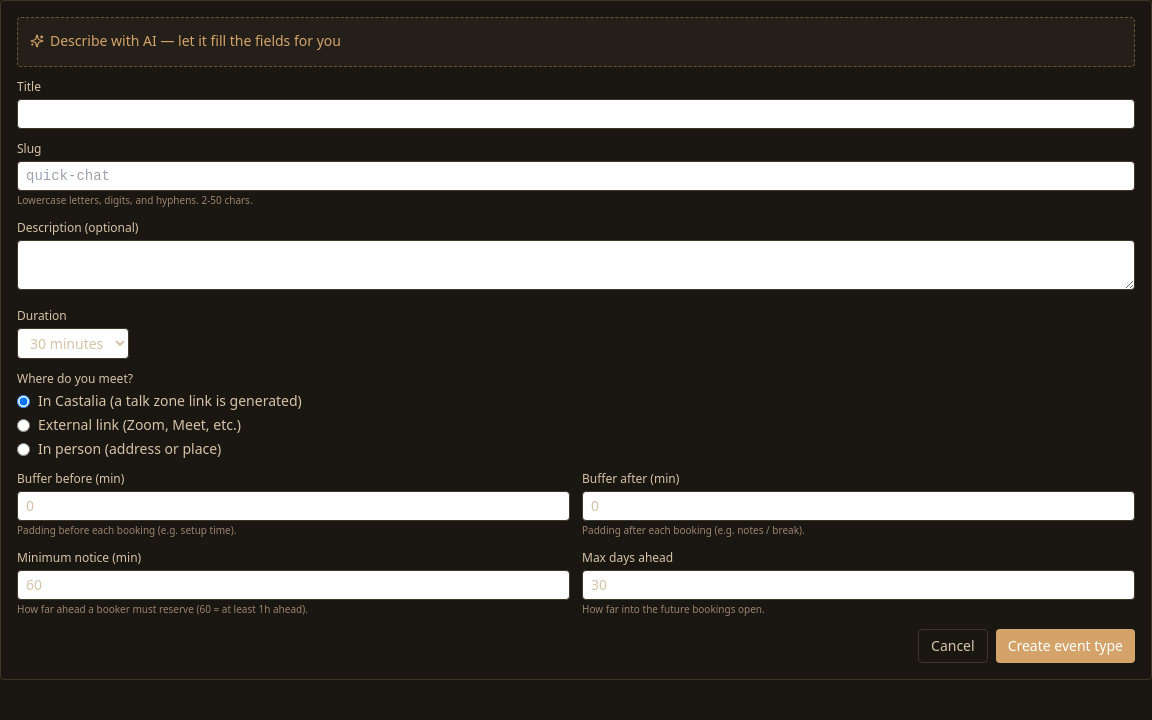
it: required-field validation: empty title and slug blocks submit
The width and height of the screenshot is (1152, 720).
Click the button "Create event type" at coordinates (1065, 646), box 996,629 -> 1135,663
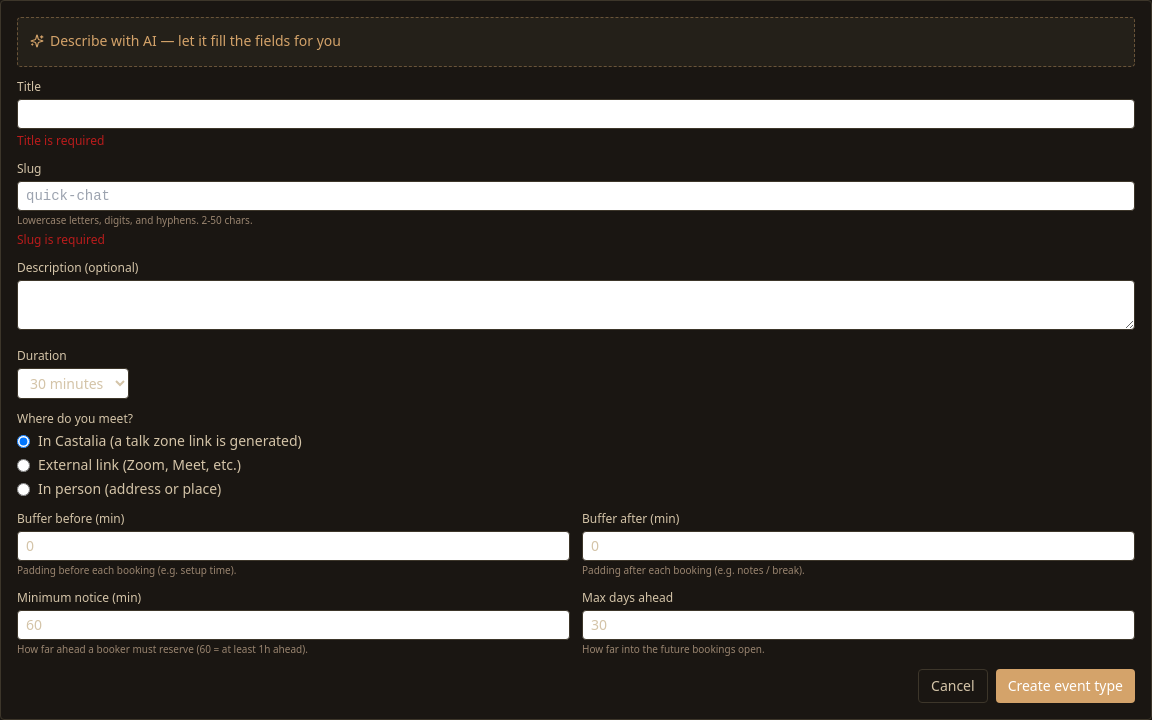
Result: the text "Title is required" is shown at 17,132 -> 104,149
Result: the text "Slug is required" is shown at 17,231 -> 105,248
